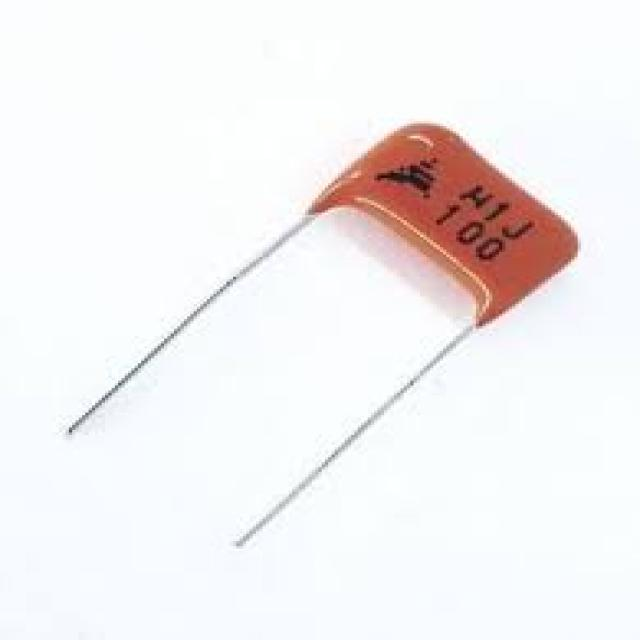Capacitor: (299, 124, 581, 331)
